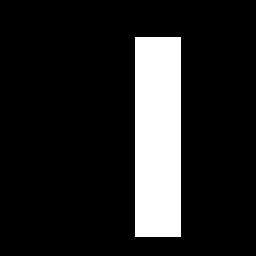person: (135, 37, 180, 236)
